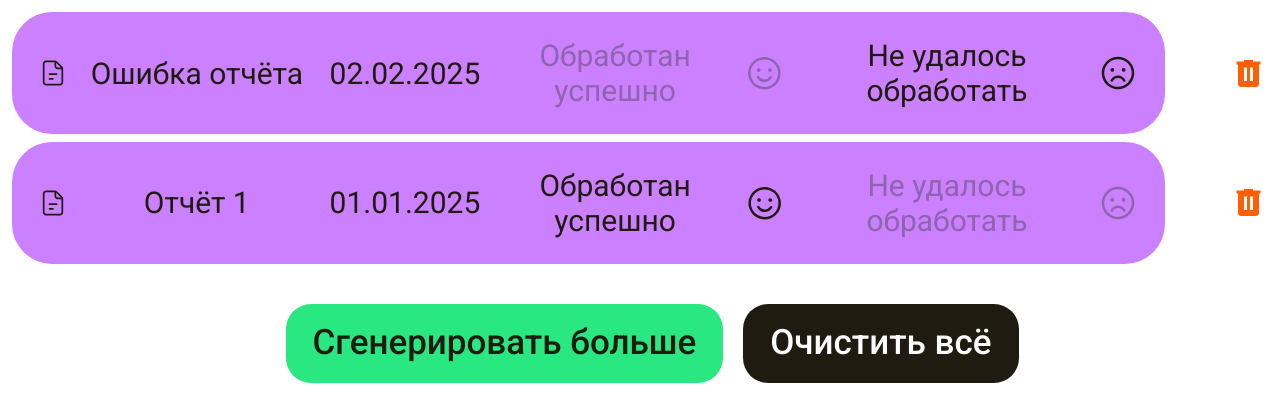
HistoryList integration › удаляет записи при клике на кнопку "Очистить всё"
Click the button "Очистить всё" at (881,343), box [743,304,1018,383]
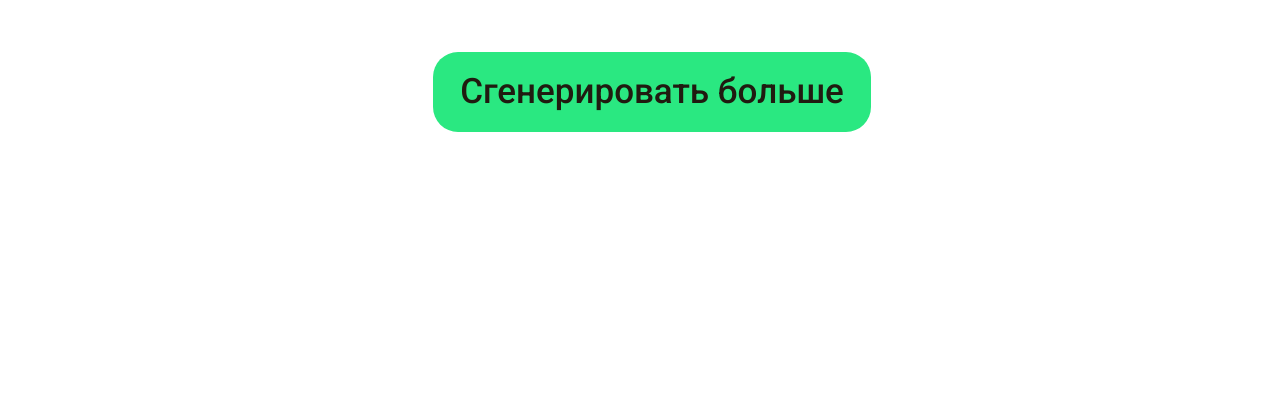
Result: the button with test id "button-item-1" is gone
